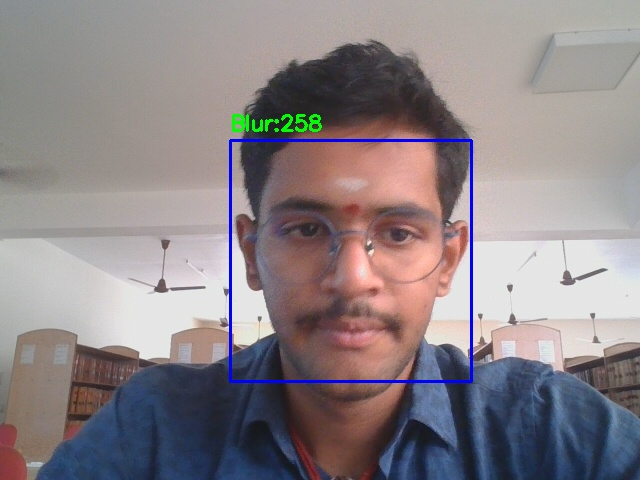real: (230, 140, 471, 381)
